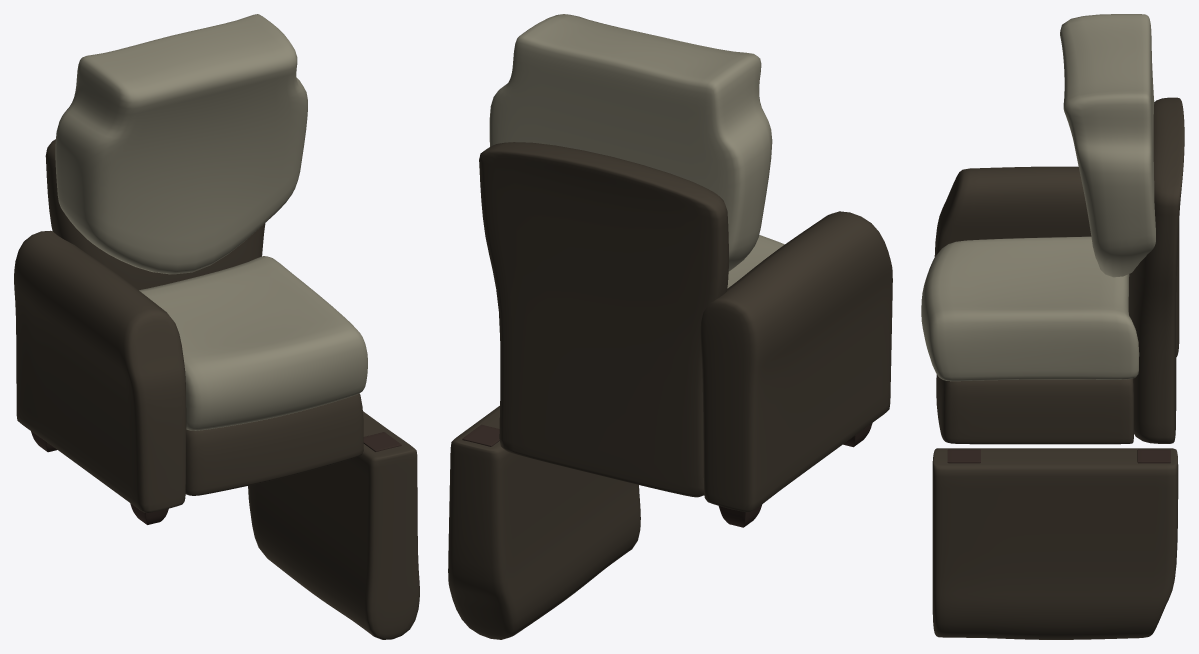
The model's file is armchair.FBX.
3 views of the same model, side by side, from view 1: azimuth 30°, elevation 25°; view 2: azimuth 150°, elevation 25°; view 3: azimuth 270°, elevation 25° (orthographic). The views are drawn at different scales.
Visible parts, largest first — view 1: Seat001, ArmL001, Seat, ArmL, Base, Back; view 2: Back, ArmL001, Seat001, ArmL, Seat; view 3: ArmL, Seat, Seat001, Base, Back, ArmL001, Box007, Box006.
Part boxes in pixels (x1,y1,x2,y2): Seat001: (55, 14, 307, 274); ArmL001: (14, 230, 186, 512); Seat: (139, 256, 367, 430); ArmL: (248, 411, 419, 639); Base: (185, 393, 363, 495); Back: (45, 139, 265, 290); Back: (479, 142, 728, 497); ArmL001: (700, 211, 892, 512); Seat001: (489, 14, 772, 271); ArmL: (448, 406, 640, 639); Seat: (727, 235, 784, 288); ArmL: (932, 448, 1178, 639); Seat: (921, 236, 1139, 381); Seat001: (1060, 14, 1155, 277); Base: (936, 374, 1133, 444); Back: (1128, 97, 1184, 443); ArmL001: (934, 166, 1179, 356); Box007: (1137, 449, 1170, 463); Box006: (947, 449, 980, 463).
Size of the model in its own units: 126 by 231 by 104.
